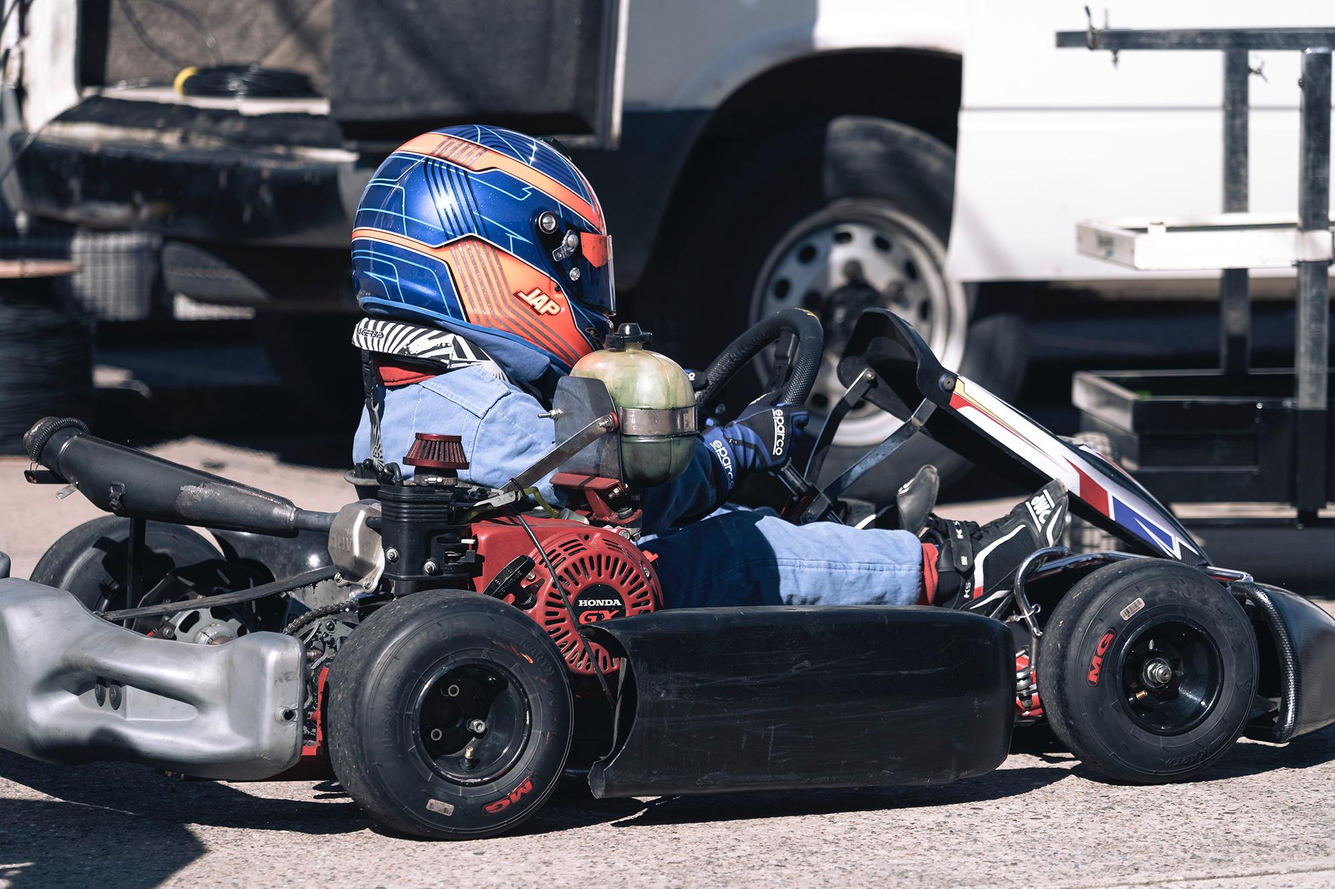helmet: (350, 122, 619, 385)
